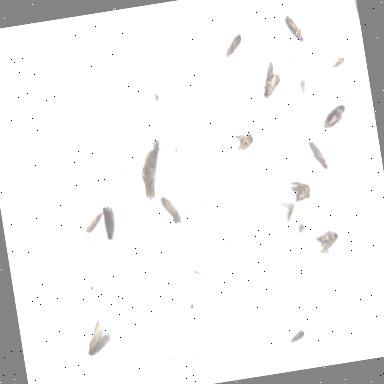pbw: (254, 58, 286, 106), (84, 316, 114, 355), (301, 136, 329, 174), (320, 100, 350, 134), (314, 226, 341, 255), (158, 190, 181, 224), (283, 11, 304, 43), (230, 124, 255, 150), (101, 202, 117, 239), (223, 31, 244, 57)
